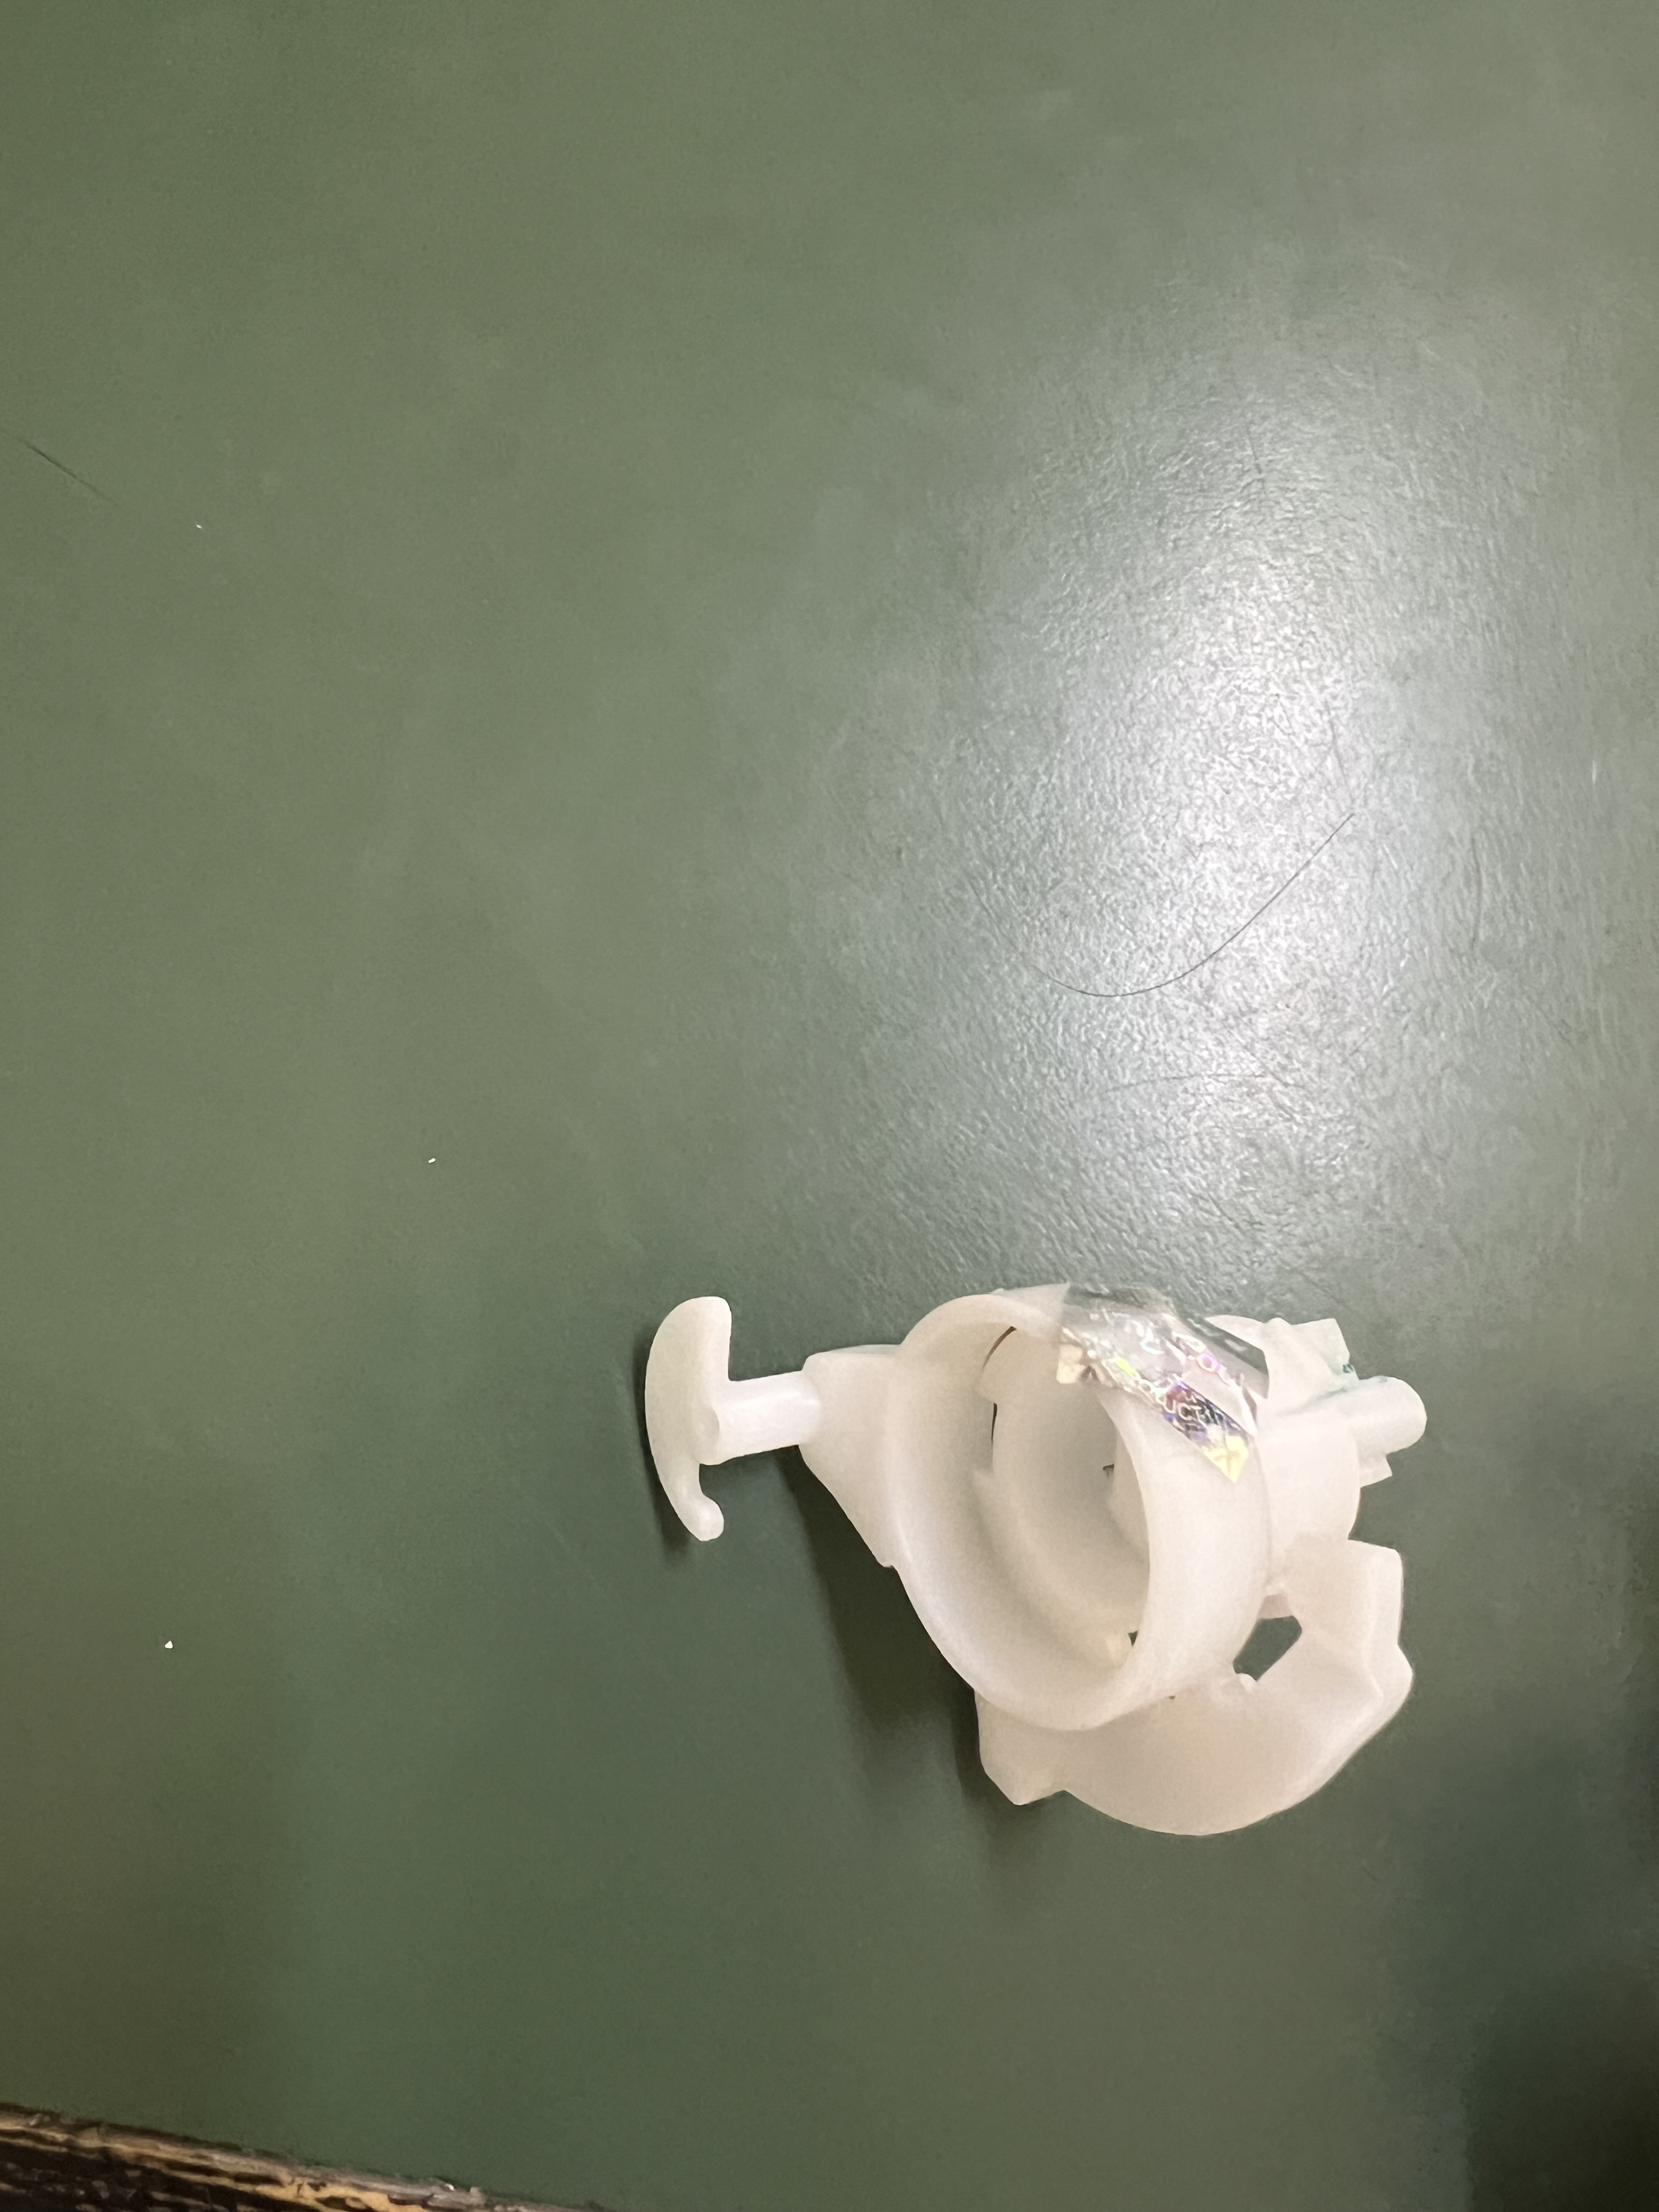drain_lever: (634, 1270, 1457, 1855)
